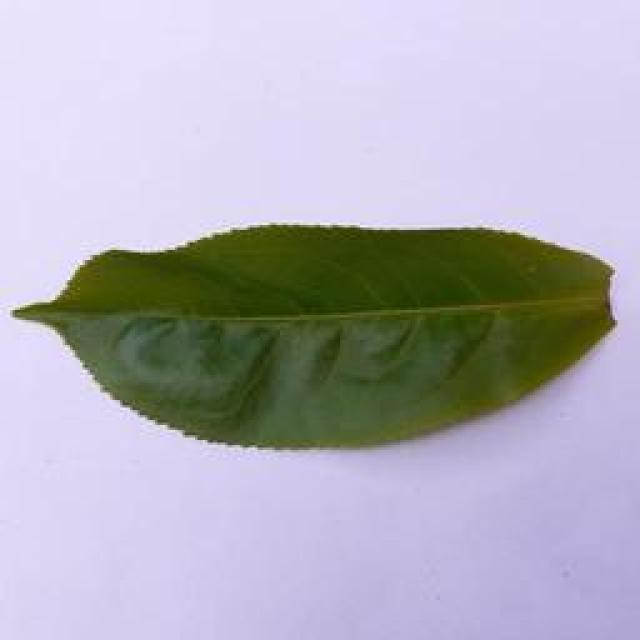Healthy: (6, 208, 622, 456)
